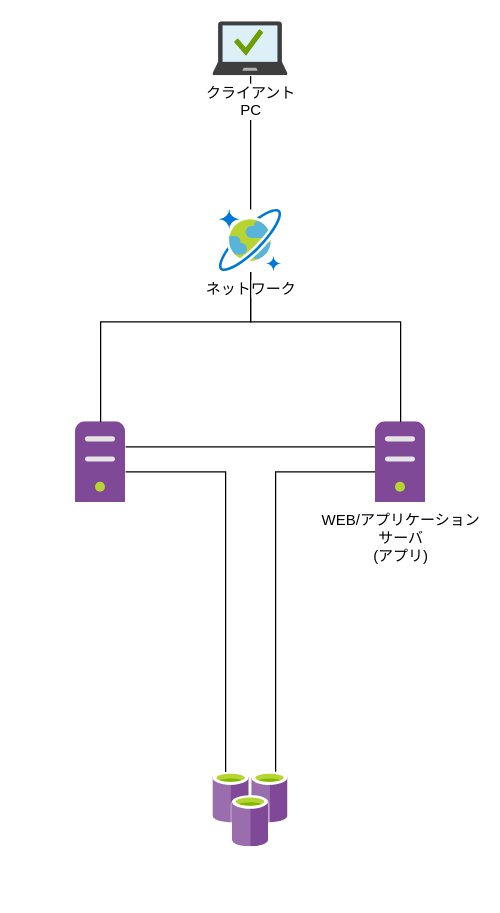
The diagram is 500 pixels wide and 913 high, and some of its shapes have lost their labels. Here are the shapes that lost their labels. From the top down, the centre of each, then its label:
At (x=100, y=461): "WEB/アプリケーション サーバ (API)".
At (x=250, y=808): "データベース サーバ".
